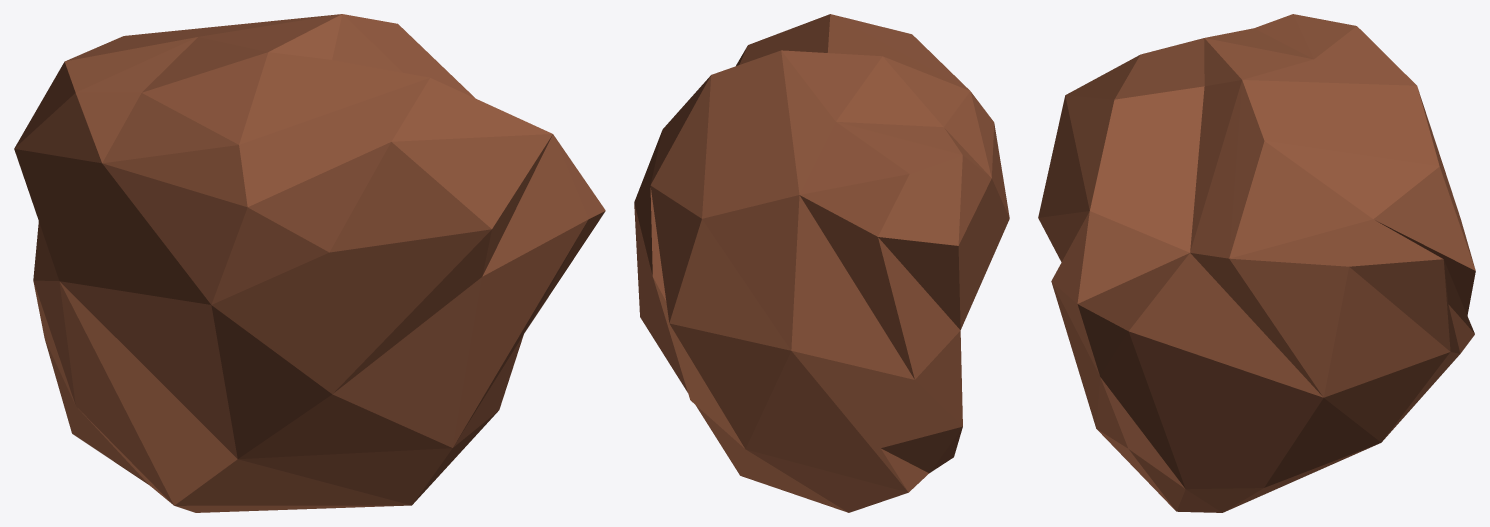
Rendered from Asteroid.003.fbx.
3 views of the same model, side by side, from view 1: azimuth 30°, elevation 25°; view 2: azimuth 150°, elevation 25°; view 3: azimuth 270°, elevation 25° (orthographic). The views are drawn at different scales.
Parts seen in each view (by area): view 1: Asteroid.003; view 2: Asteroid.003; view 3: Asteroid.003.
Part boxes in pixels (left/top/right/bottom): Asteroid.003: left=14, top=14, right=605, bottom=512; Asteroid.003: left=634, top=14, right=1009, bottom=512; Asteroid.003: left=1038, top=14, right=1475, bottom=512.
Size of the model in its own units: 7.44 by 7.83 by 7.3.
